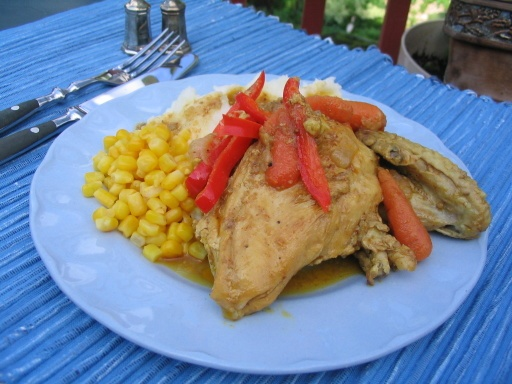background: (64, 41, 392, 191)
